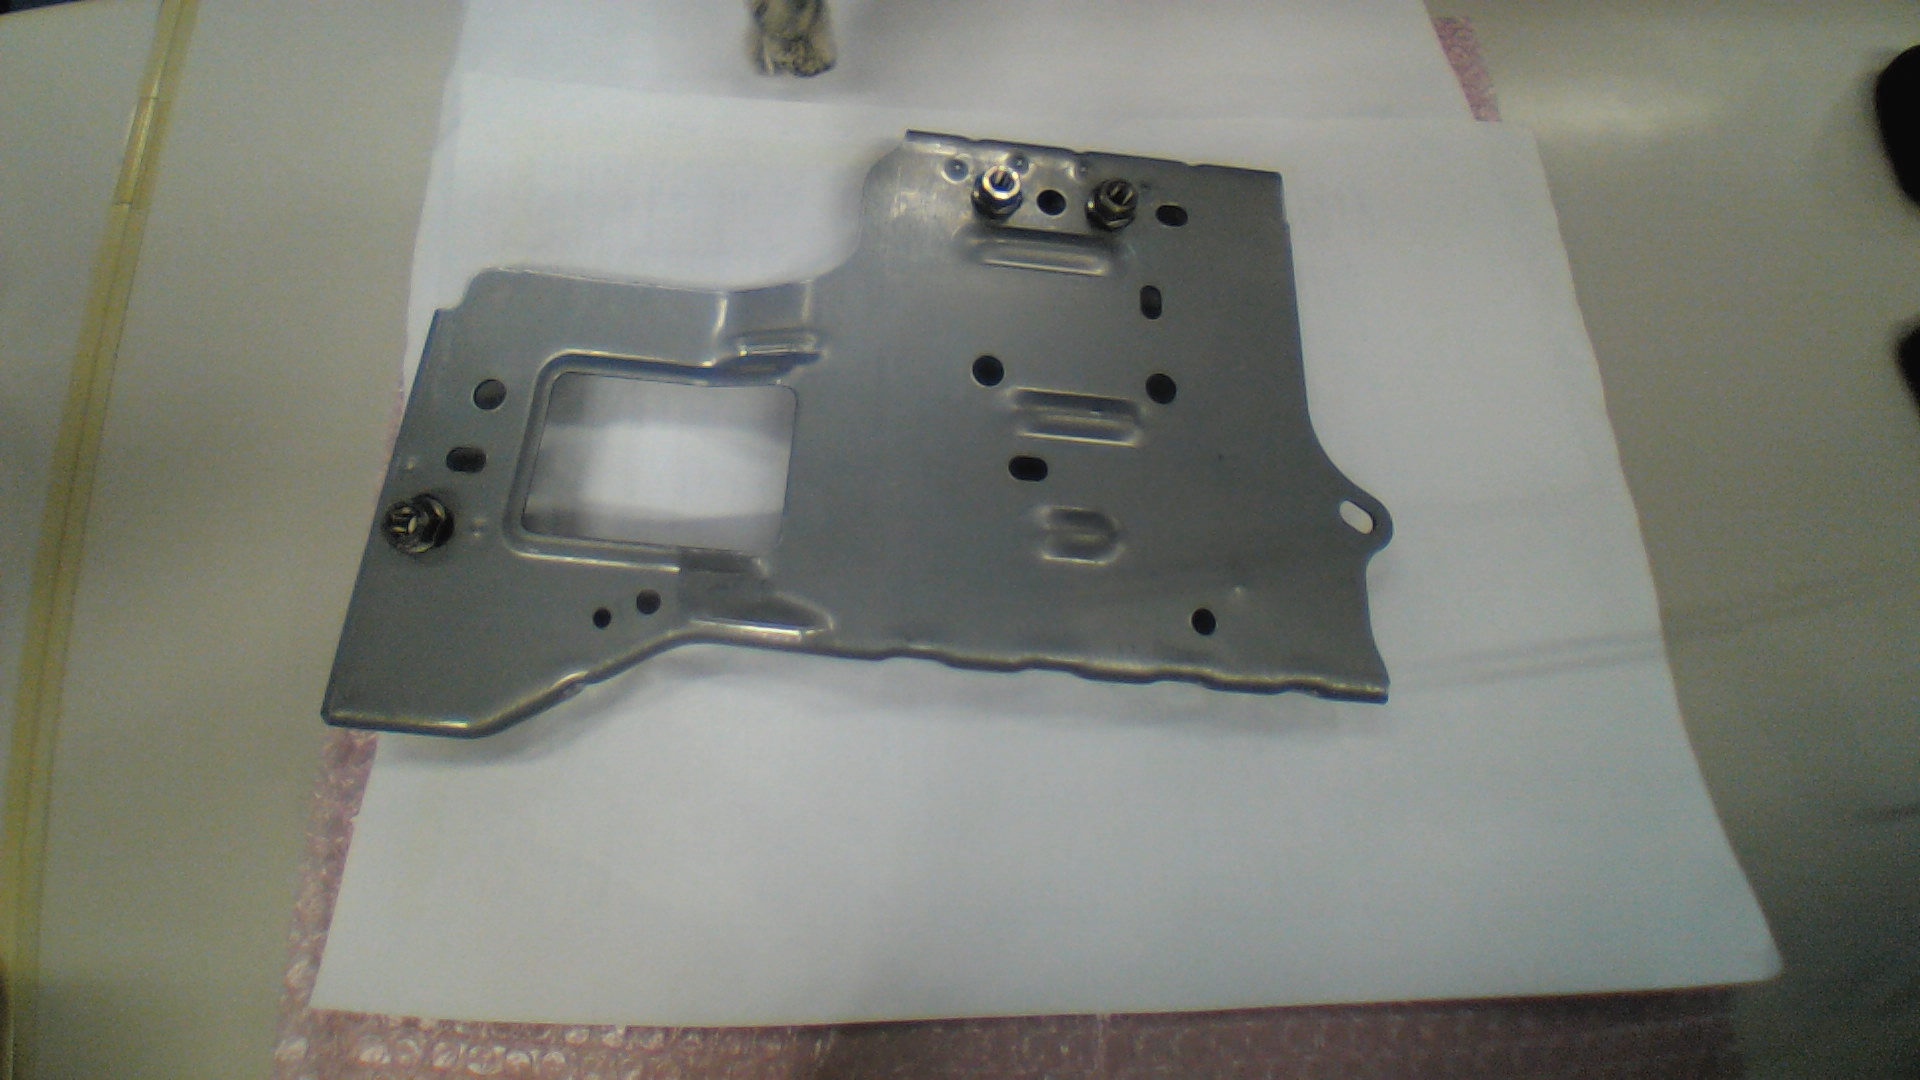dog: (378, 495, 454, 559), (972, 164, 1026, 222), (1083, 179, 1139, 229)
